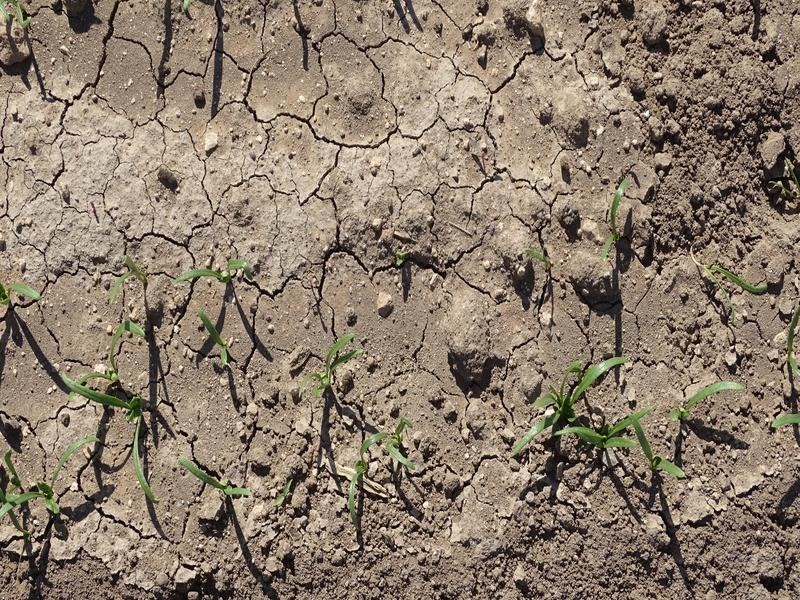Espinaca: (527, 365, 647, 461), (2, 438, 99, 516), (55, 354, 161, 425), (180, 456, 252, 503), (295, 351, 364, 397), (667, 382, 736, 426), (702, 258, 771, 299), (177, 253, 253, 289), (600, 175, 632, 259), (195, 311, 232, 375), (366, 422, 420, 462), (342, 470, 372, 516), (786, 308, 800, 382), (1, 280, 42, 303)
